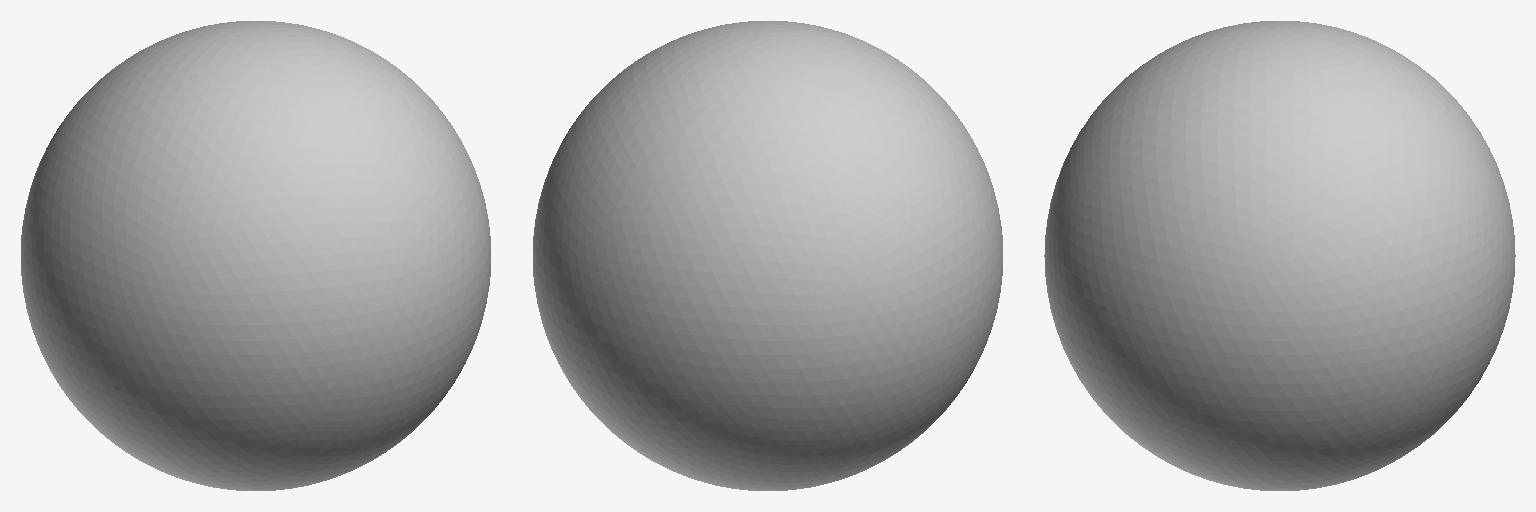
File: SphereLarge.obj
The picture shows the model from 3 angles: view 1: azimuth 30°, elevation 25°; view 2: azimuth 150°, elevation 25°; view 3: azimuth 270°, elevation 25°; orthographic projection.
Visible parts, largest first — view 1: Icosphere; view 2: Icosphere; view 3: Icosphere.
Part boxes in pixels (x1,y1,x2,y2): Icosphere: (21, 21, 490, 490); Icosphere: (533, 21, 1002, 490); Icosphere: (1044, 21, 1515, 490).
Size of the model in its own units: 0.9 by 0.9 by 0.9.